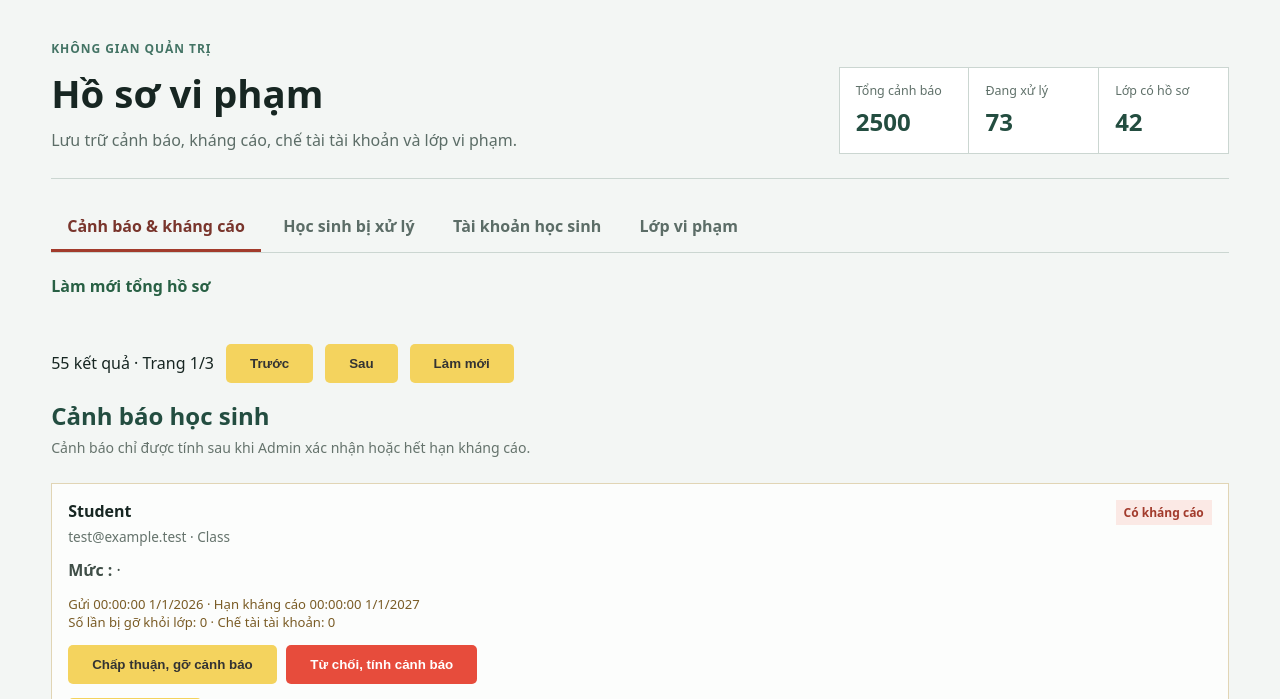
Test case: tabs load lazily, preserve their page and do not fetch every page or legacy APIs
The width and height of the screenshot is (1280, 699).
Click the button "Sau" at (361, 363), box [325,344,398,383]
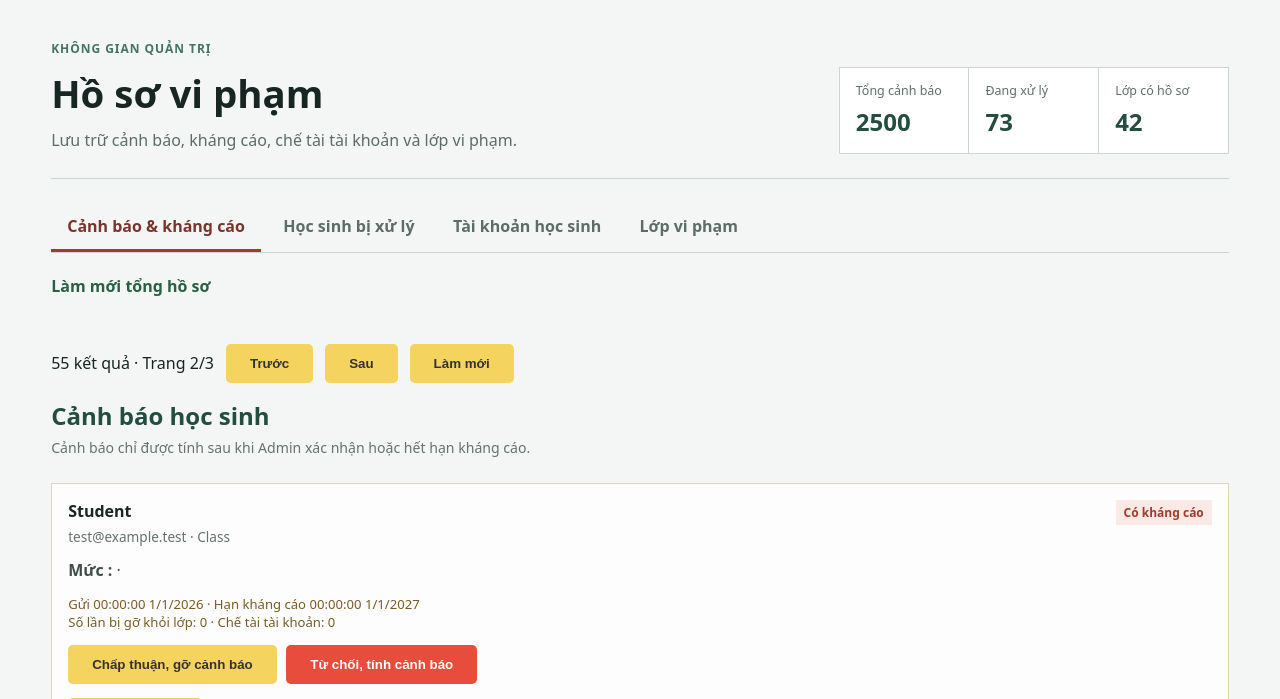
Click the tab "Học sinh bị xử lý" at (349, 227), box [267,203,431,252]
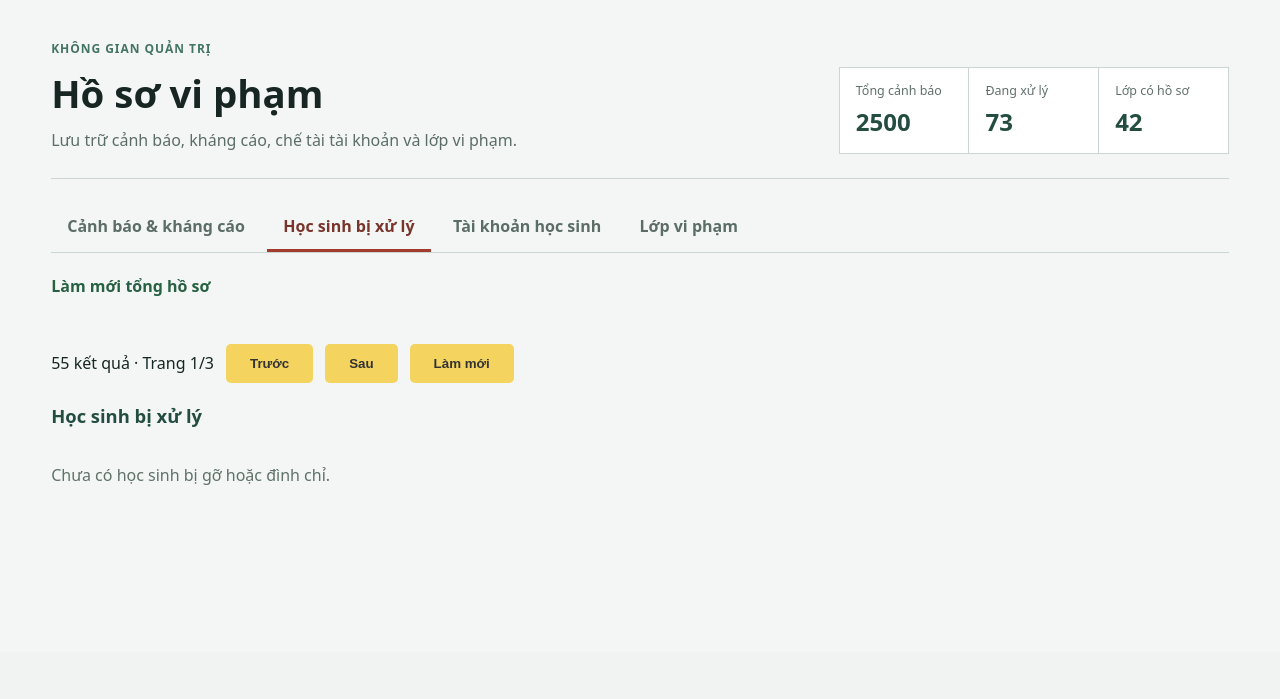
Click the tab "Lớp vi phạm" at (689, 227), box [624,203,754,252]
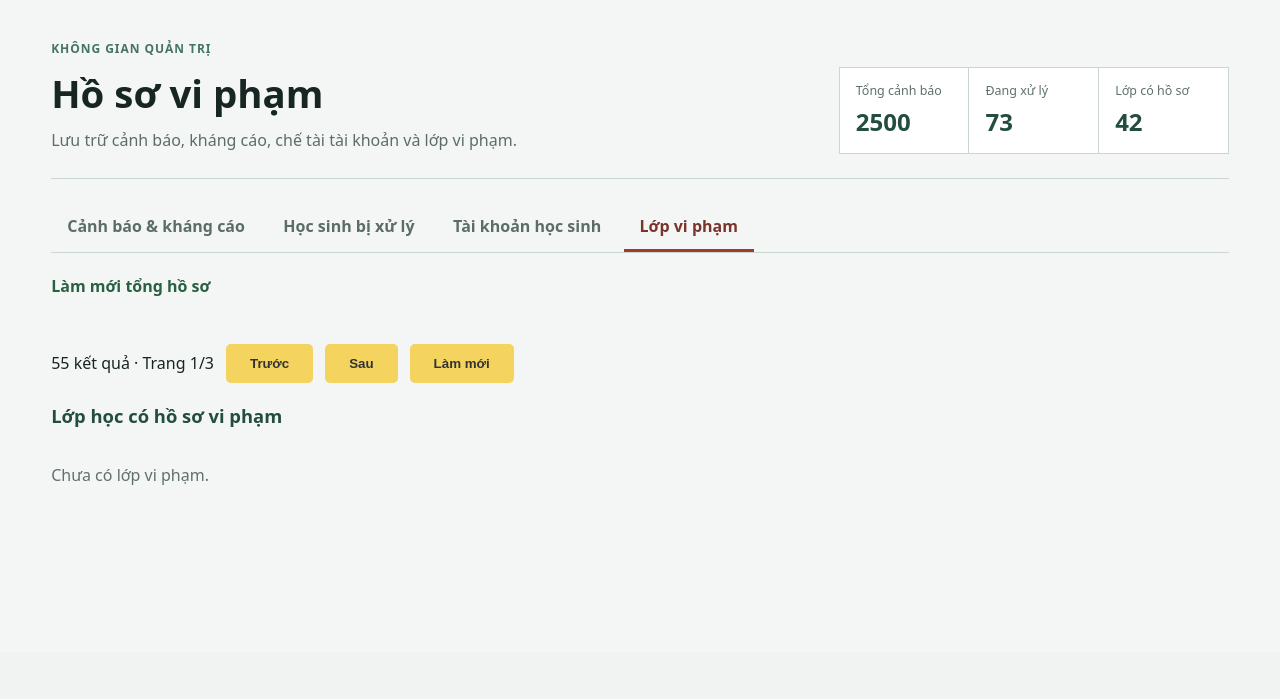
Click the tab "Cảnh báo & kháng cáo" at (156, 227), box [51,203,261,252]
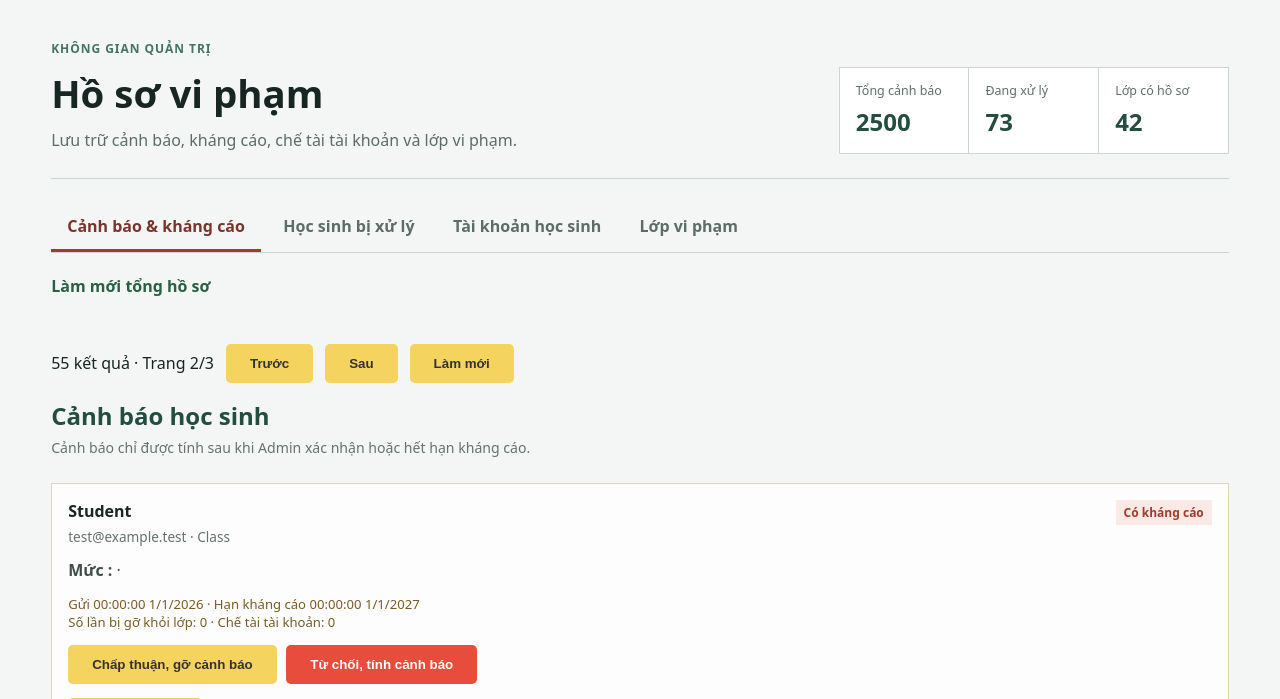
expect the text "Trang 2/3" is shown: met, box [51,352,214,374]
